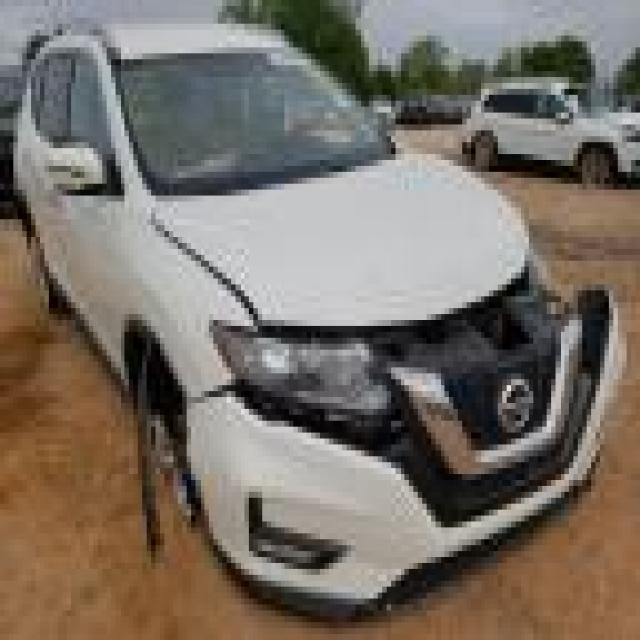moderate: (107, 175, 640, 591)
